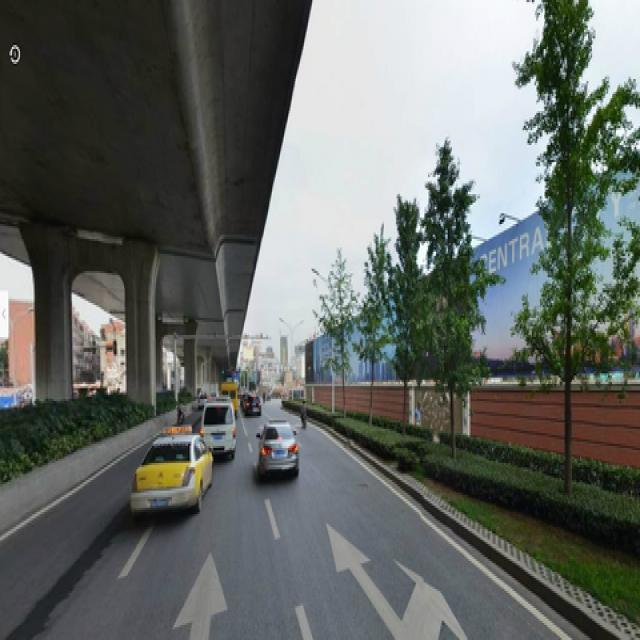gink: (518, 11, 618, 482)
